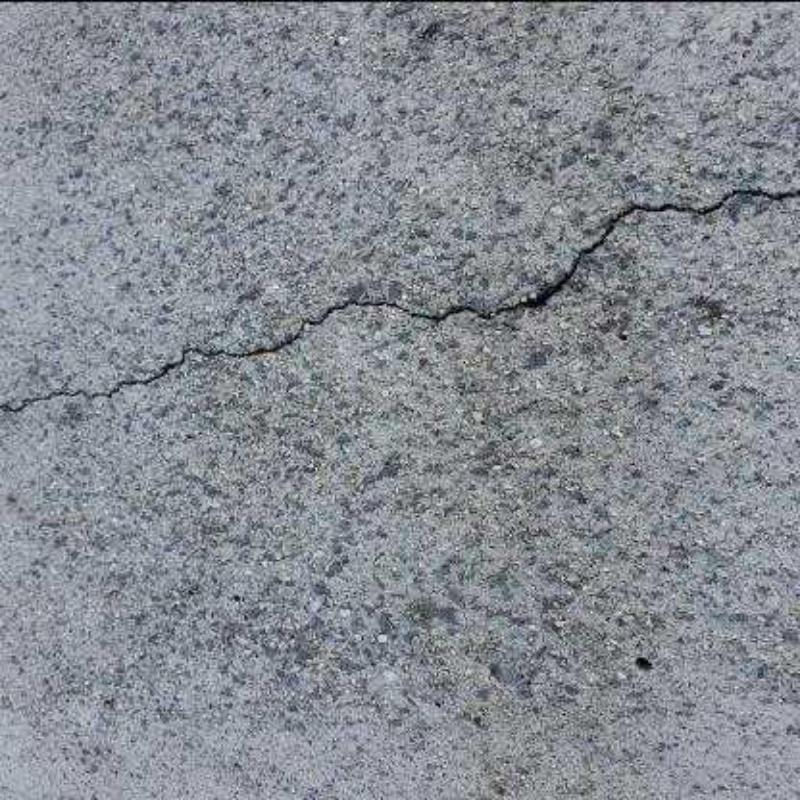crack: (0, 178, 800, 416)
